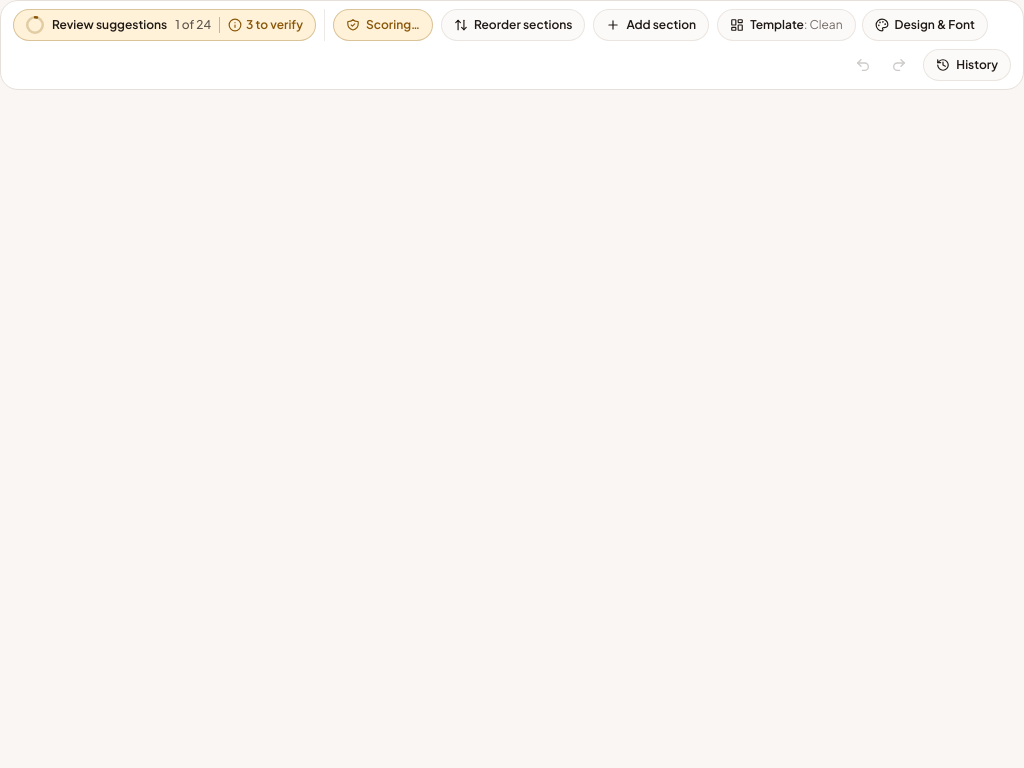
EditorToolbar › once scored › shows Scoring… while a re-score runs and blocks a second press
Click the button "Scoring…": (383, 25) [333,9,433,41]
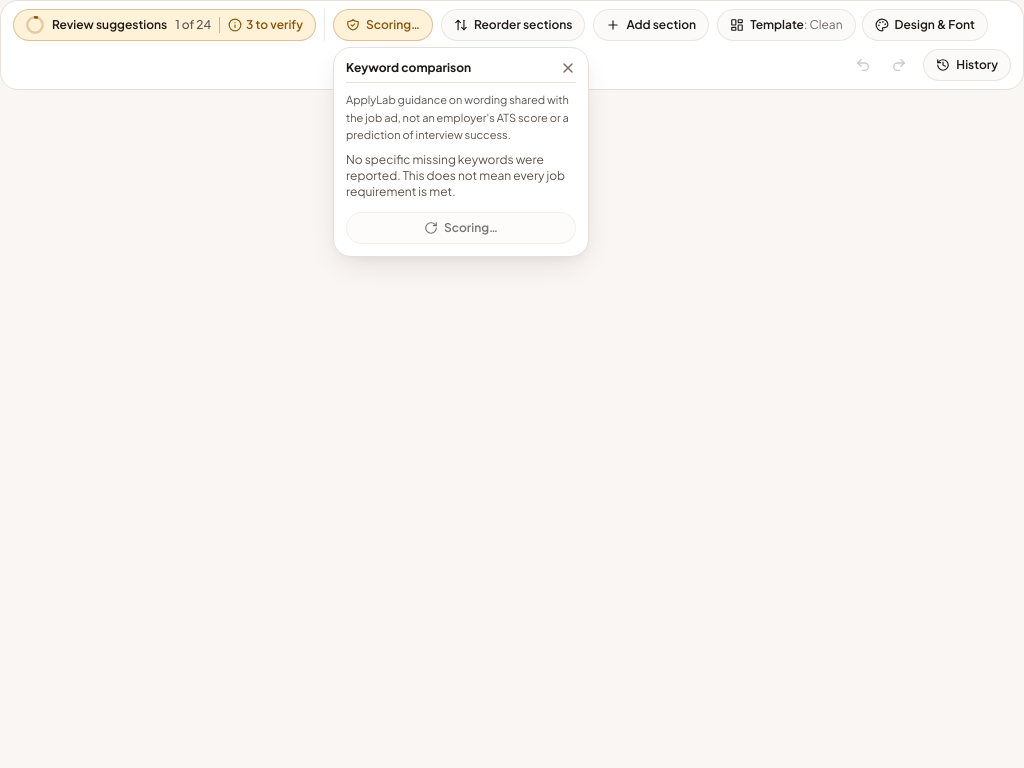
Check: the button "Scoring…" below "Keyword comparison" is disabled, box [346,212,576,244]
